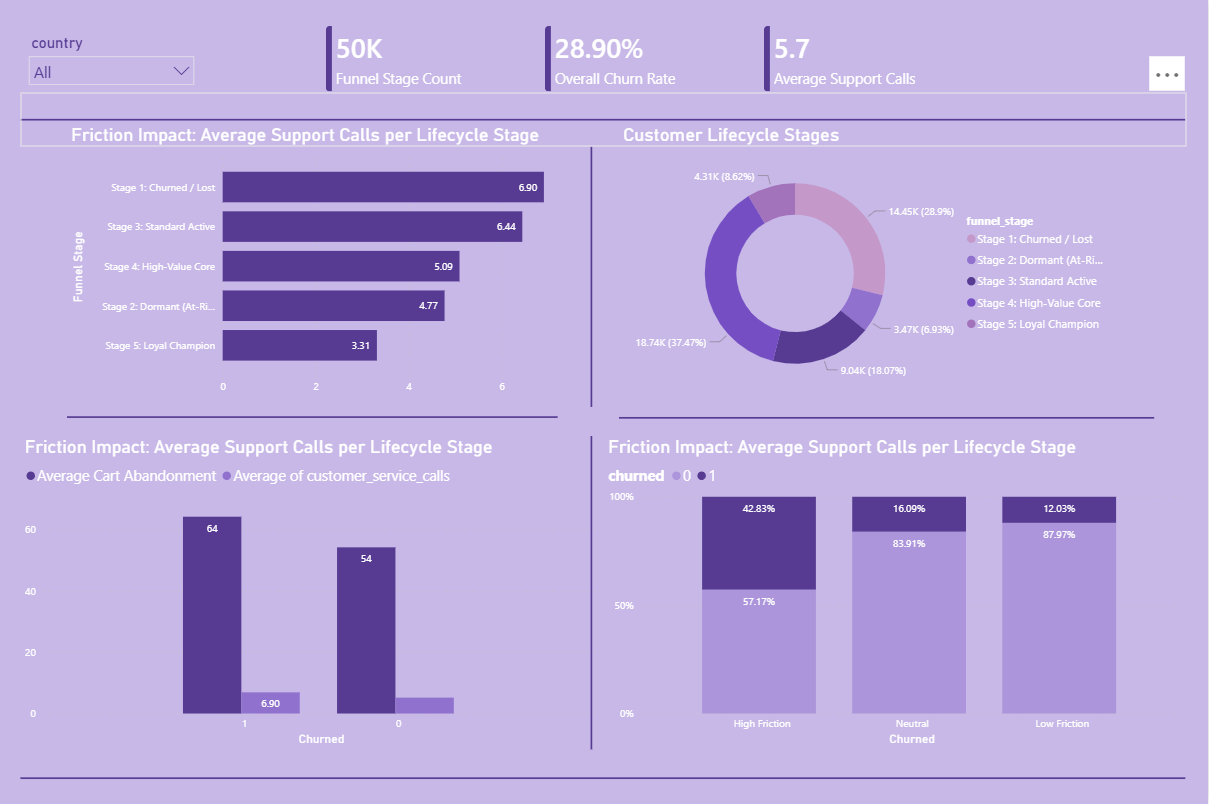

What the dashboard file says about the page in this screenshot:
{"tool":"powerbi","page":{"name":"Page 1","canvas":[1440,960],"ordinal":0},"visuals":[{"type":"donutChart","title":"Customer Lifecycle Stages","fields":{"Category":["public vw_funnel_analysis.funnel_stage"],"Y":["CountNonNull(public vw_funnel_analysis.funnel_stage)"]},"box":[739.3,149.9,594.5,330.5],"z":0},{"type":"barChart","title":"Friction Impact: Average Support Calls per Lifecycle Stage","fields":{"Category":["public vw_funnel_analysis.funnel_stage"],"Y":["Avg(public vw_funnel_analysis.customer_service_calls)"]},"box":[81.8,149.9,604.7,330.5],"z":1000},{"type":"cardVisual","fields":{"Data":["CountNonNull(public vw_funnel_analysis.funnel_stage)"]},"box":[357.7,0,260.6,144.8],"z":2000},{"type":"cardVisual","fields":{"Data":["public vw_funnel_analysis.Average Support Calls"]},"box":[879,0,260.6,144.8],"z":3000},{"type":"clusteredColumnChart","title":"Friction Impact: Average Support Calls per Lifecycle Stage","fields":{"Y":["public vw_funnel_analysis.Average Cart Abandonment","Avg(public vw_funnel_analysis.customer_service_calls)"],"Category":["public vw_funnel_analysis.churned"]},"box":[27.3,521.3,693.3,373.1],"z":4000},{"type":"hundredPercentStackedColumnChart","title":"Friction Impact: Average Support Calls per Lifecycle Stage","fields":{"Category":["public vw_funnel_analysis.friction_tier"],"Series":["public vw_funnel_analysis.churned"],"Y":["public vw_funnel_analysis.Customer Count"]},"box":[720.6,521.3,693.3,373.1],"z":5000},{"type":"slicer","fields":{"Values":["public vw_funnel_analysis.country"]},"box":[27.3,37.5,216.3,75],"z":6000},{"type":"shape","box":[618.4,177.2,177.2,310],"z":7000},{"type":"shape","box":[618.4,521.3,177.2,373.1],"z":8000},{"type":"shape","box":[27.3,896,1386.6,64.7],"z":9000},{"type":"cardVisual","fields":{"Data":["public vw_funnel_analysis.Overall Churn Rate"]},"box":[618.4,0,260.6,144.8],"z":10000},{"type":"shape","box":[81.8,477,584.3,44.3],"z":11000},{"type":"shape","box":[739.3,477,637.1,46],"z":12000},{"type":"shape","box":[27.3,112.4,1386.6,64.7],"z":13000}]}

Visuals, with their boxes in screenshot pixels (x1, y1, x2, y2), scaled from the page's 1440x960 canvas onto the 1209x804 screenshot:
"Customer Lifecycle Stages" donutChart: select_region(621, 126, 1120, 402)
"Friction Impact: Average Support Calls per Lifecycle Stage" barChart: select_region(69, 126, 576, 402)
cardVisual - CountNonNull(public vw_funnel_analysis.funnel_stage): select_region(300, 0, 519, 121)
cardVisual - public vw_funnel_analysis.Average Support Calls: select_region(738, 0, 957, 121)
"Friction Impact: Average Support Calls per Lifecycle Stage" clusteredColumnChart: select_region(23, 437, 605, 749)
"Friction Impact: Average Support Calls per Lifecycle Stage" hundredPercentStackedColumnChart: select_region(605, 437, 1187, 749)
slicer - public vw_funnel_analysis.country: select_region(23, 31, 205, 94)
shape: select_region(519, 148, 668, 408)
shape: select_region(519, 437, 668, 749)
shape: select_region(23, 750, 1187, 803)
cardVisual - public vw_funnel_analysis.Overall Churn Rate: select_region(519, 0, 738, 121)
shape: select_region(69, 399, 559, 437)
shape: select_region(621, 399, 1156, 438)
shape: select_region(23, 94, 1187, 148)
